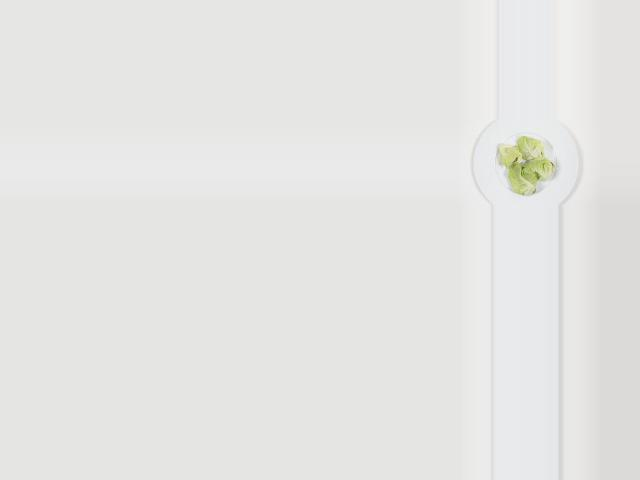lettuce: (496, 137, 556, 201)
